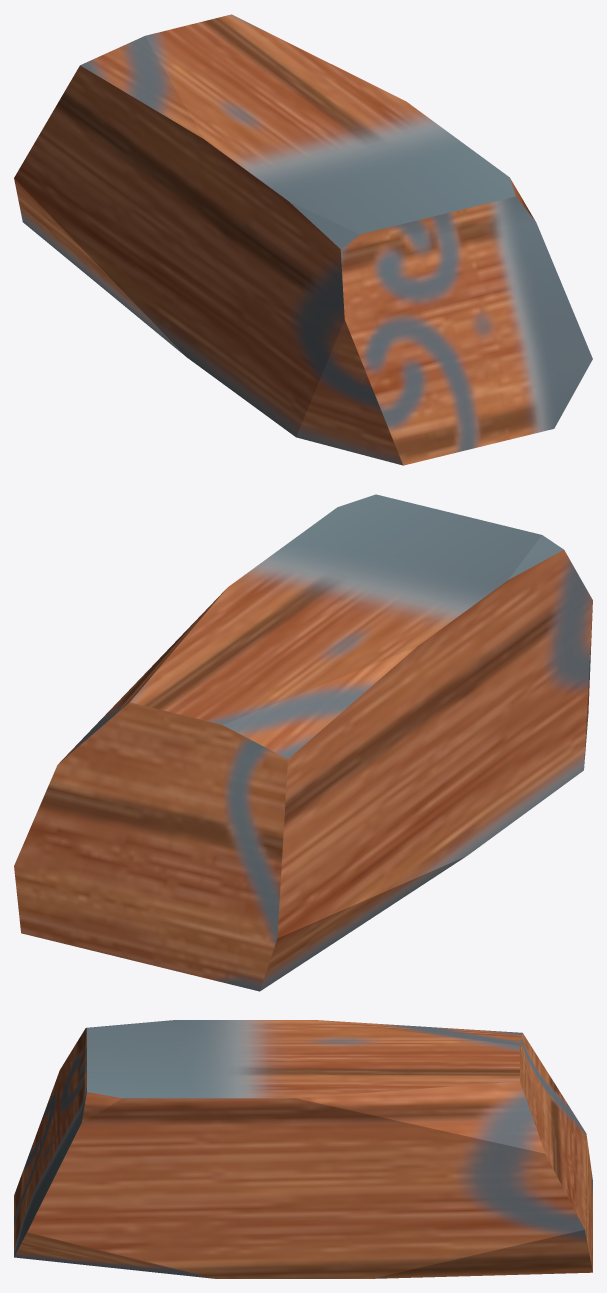
File: Kamen_normal6.fbx
The picture shows the model from 3 angles, top to bottom: view 1: azimuth 30°, elevation 25°; view 2: azimuth 150°, elevation 25°; view 3: azimuth 270°, elevation 25°; orthographic projection. The views are drawn at different scales.
Parts seen in each view (by area): view 1: Kamen_normal6; view 2: Kamen_normal6; view 3: Kamen_normal6.
Part boxes in pixels (<box>): Kamen_normal6: <box>14,14,592,465</box>; Kamen_normal6: <box>14,494,592,991</box>; Kamen_normal6: <box>14,1020,592,1278</box>.
Bounding box in the file's own units: 8.22 × 6.15 × 19.27.
